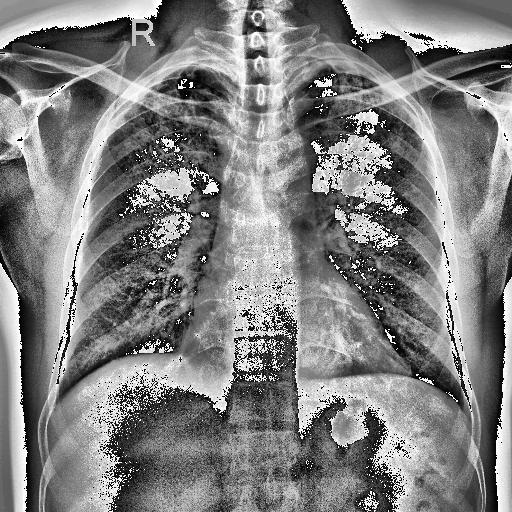13- Pulmonary fibrosis: (308, 66, 420, 198), (117, 60, 221, 194)
2- Calcification: (308, 66, 420, 198), (117, 60, 221, 194)
5- ILD: (88, 43, 240, 188), (328, 64, 430, 260)
6- Infiltration: (88, 43, 240, 188), (101, 64, 227, 190), (296, 56, 426, 170), (308, 66, 420, 198), (117, 60, 221, 194)
7- Lung Opacity: (308, 66, 420, 198), (117, 60, 221, 194)
9- Other lesion: (169, 325, 236, 415)
